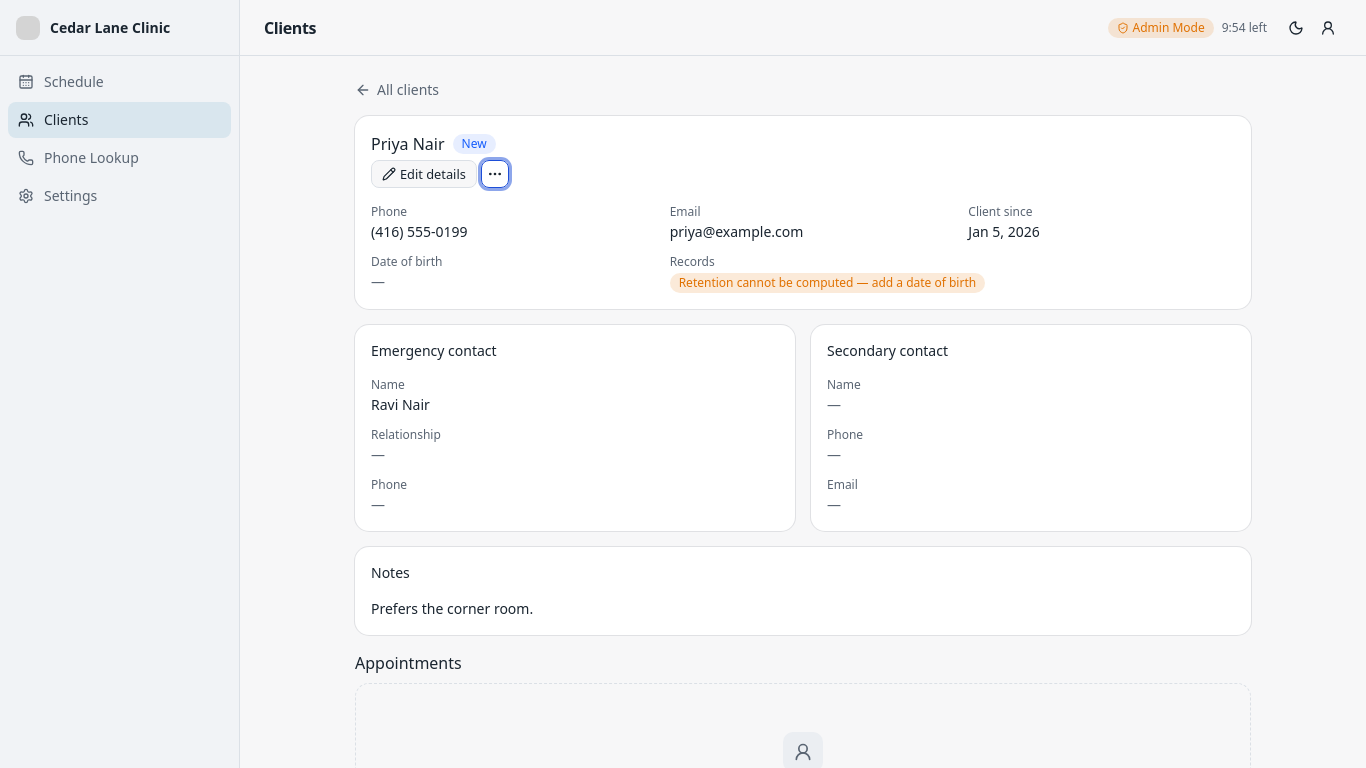
it: a chart held with no date of birth says it is held until one is recorded
The image size is (1366, 768).
Press Enter
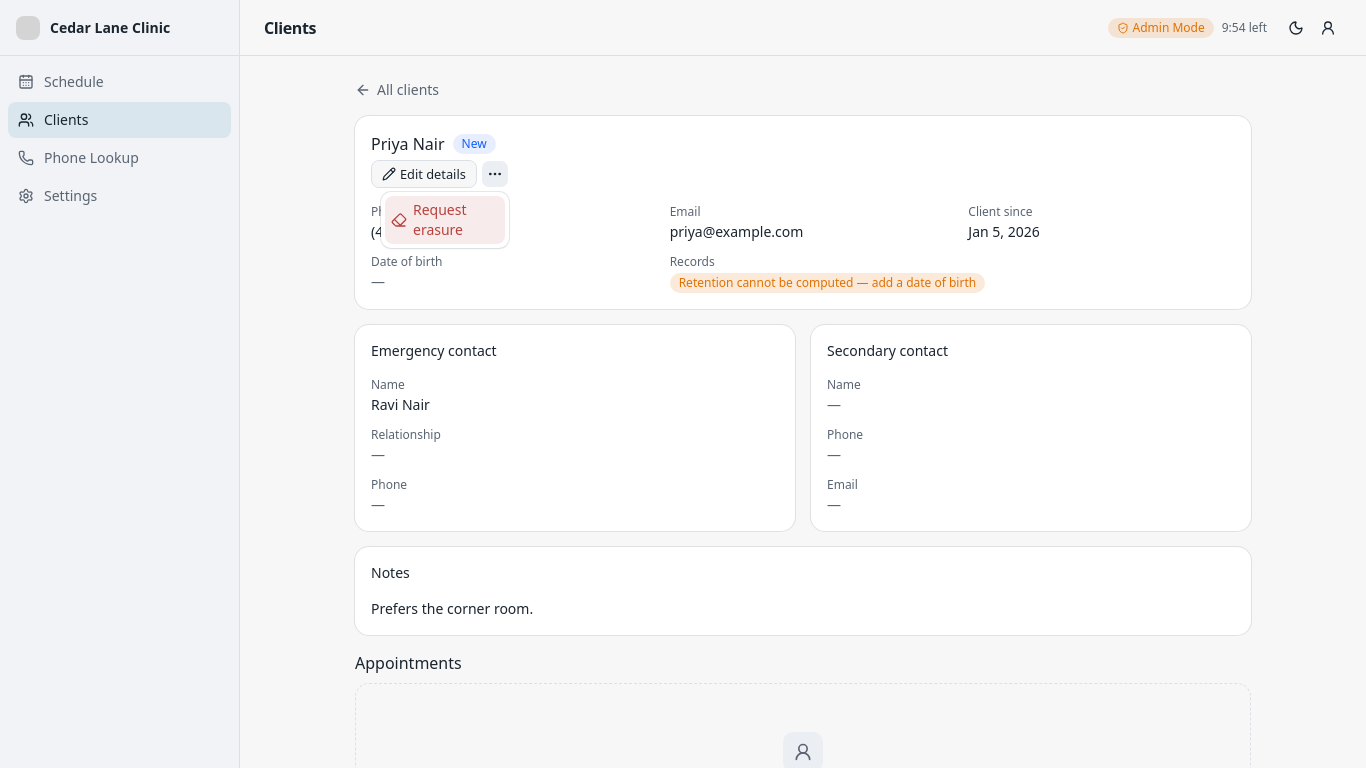
Click the menu item "Request erasure" at point(445, 220), box [385,196,505,244]
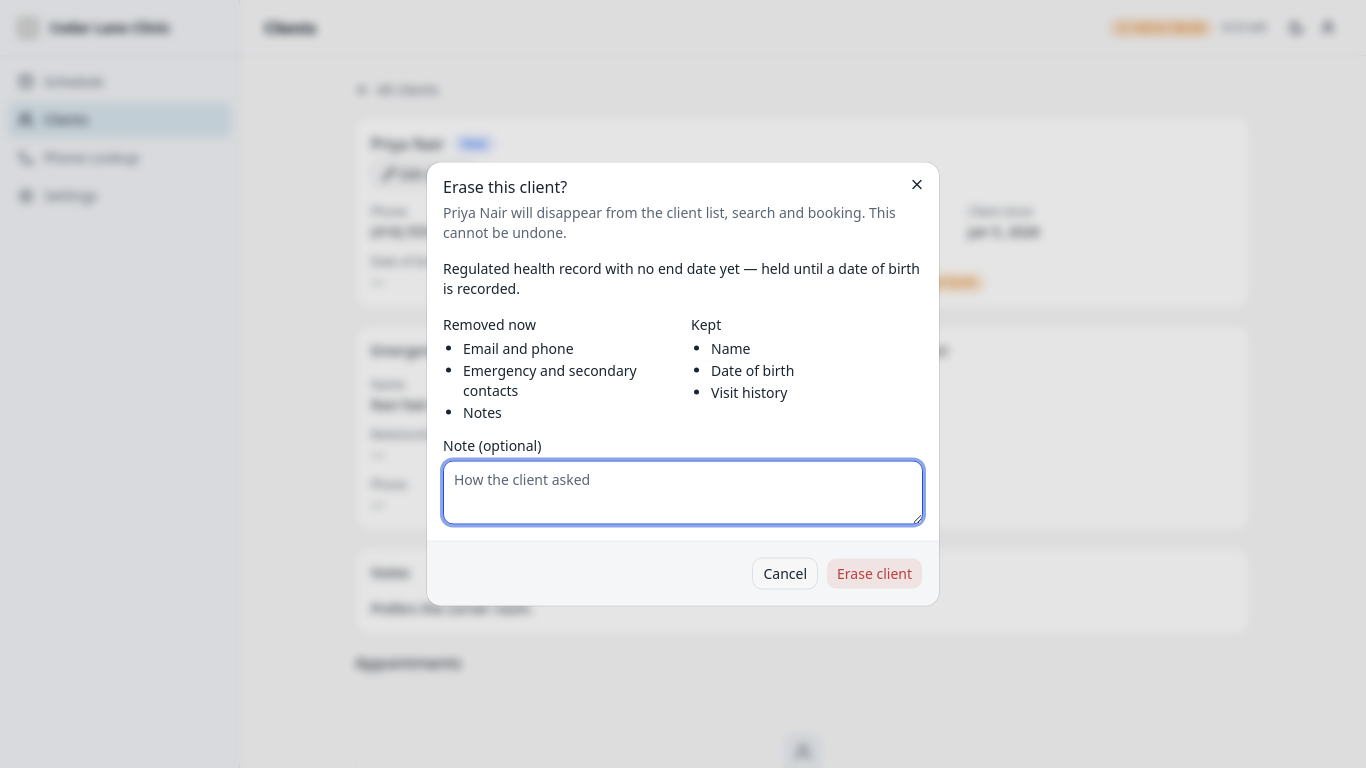
Expected: the text "until a date of birth is recorded" is shown, [443,258,920,298]
